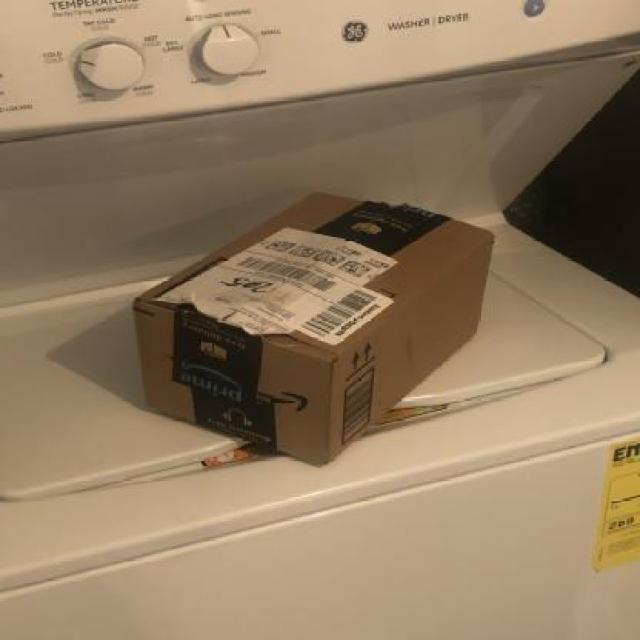cardboxes: (114, 176, 522, 488)
